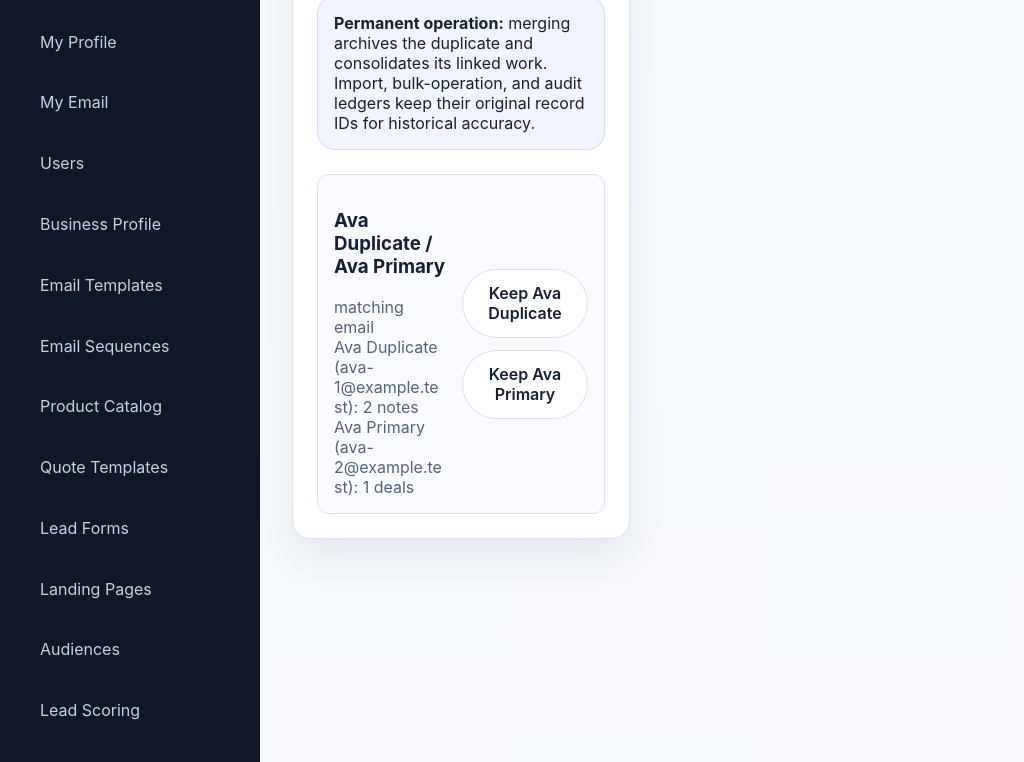
settings duplicate review route › keeps a stable idempotency key across a failed retry and resolves fields explicitly
(page scrolled)
Expected: the text "matching email" is shown, [334,297,404,337]
Expected: the text "Ava Duplicate (ava-1@example.test): 2 notes" is shown, [334,337,446,417]
What coordinates should you click on to do the following:
click the button "Keep Ava Primary"
I would click on:
 (525, 384)
Its box is [462,350,588,419].
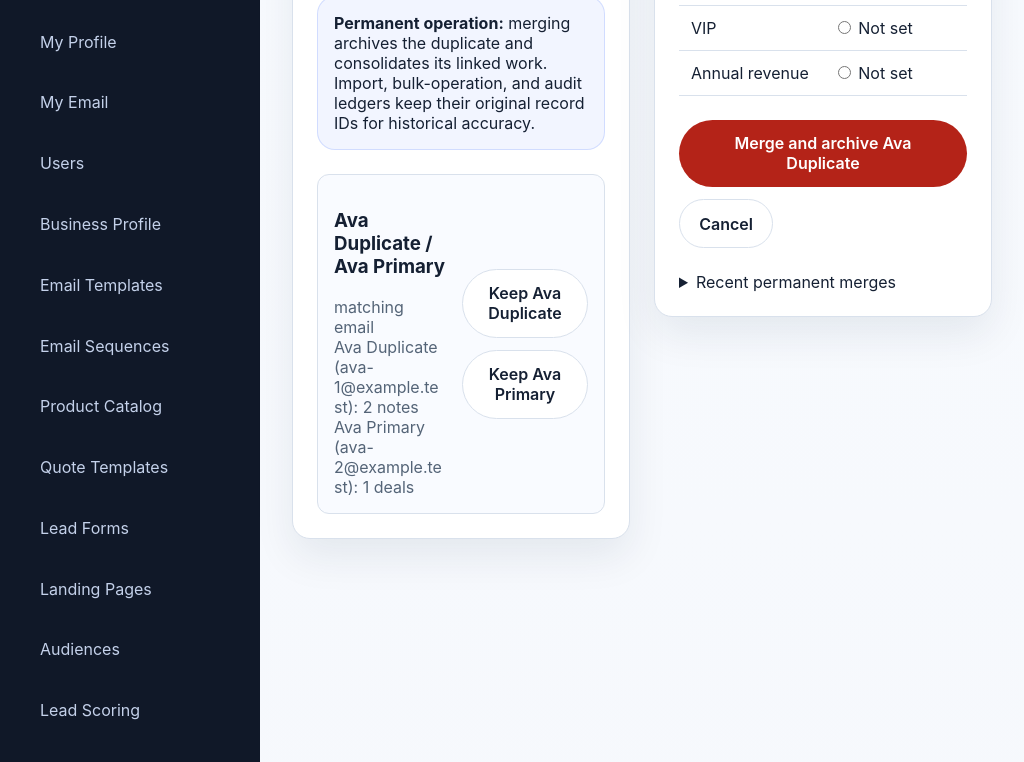
What coordinates should you click on to do the following:
click the button "Merge and archive Ava Duplicate"
I would click on:
 (823, 153)
Its box is [679,120,967,187].
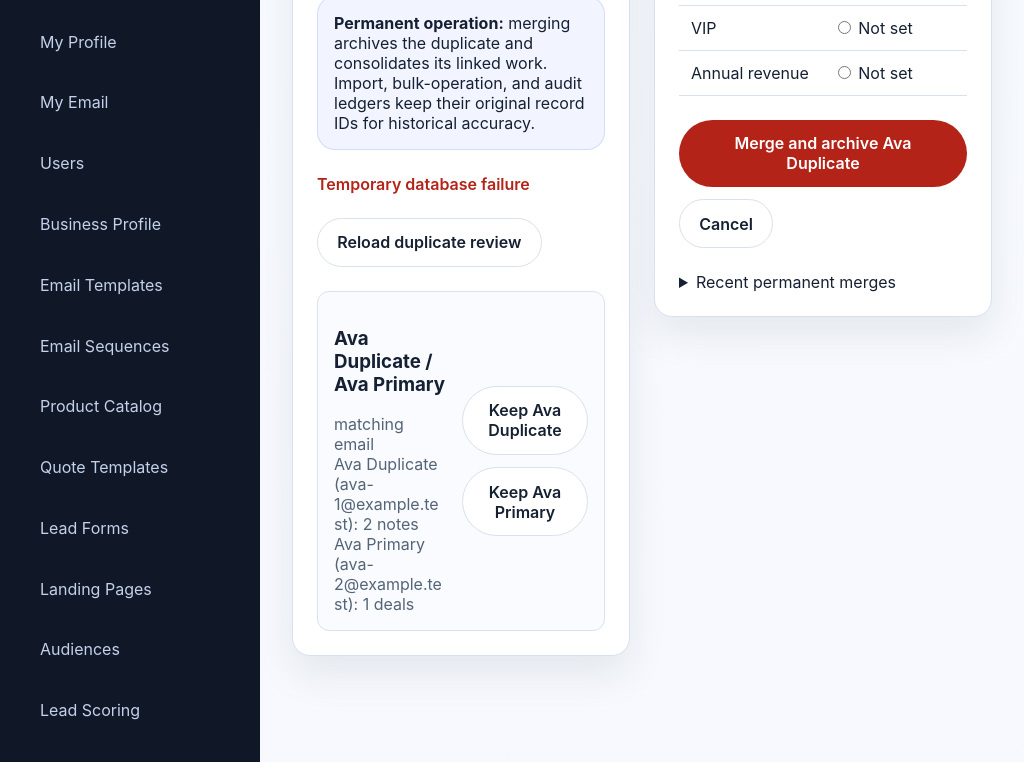
Expected: the text "Temporary database failure" is shown, [317,174,530,194]
What coordinates should you click on to do the following:
click the button "Merge and archive Ava Duplicate"
I would click on:
 (823, 153)
Its box is [679,120,967,187].
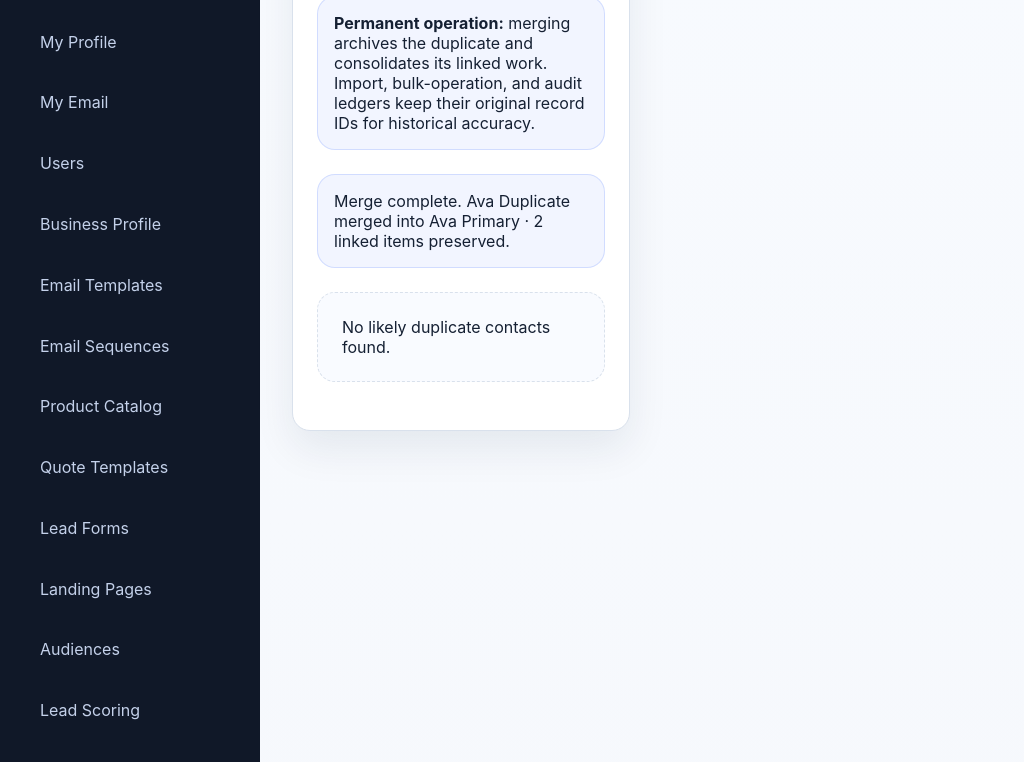
Expected: the text "Merge complete" is shown, [334,191,570,251]
Expected: the text "No likely duplicate contacts found." is shown, [317,292,605,382]
